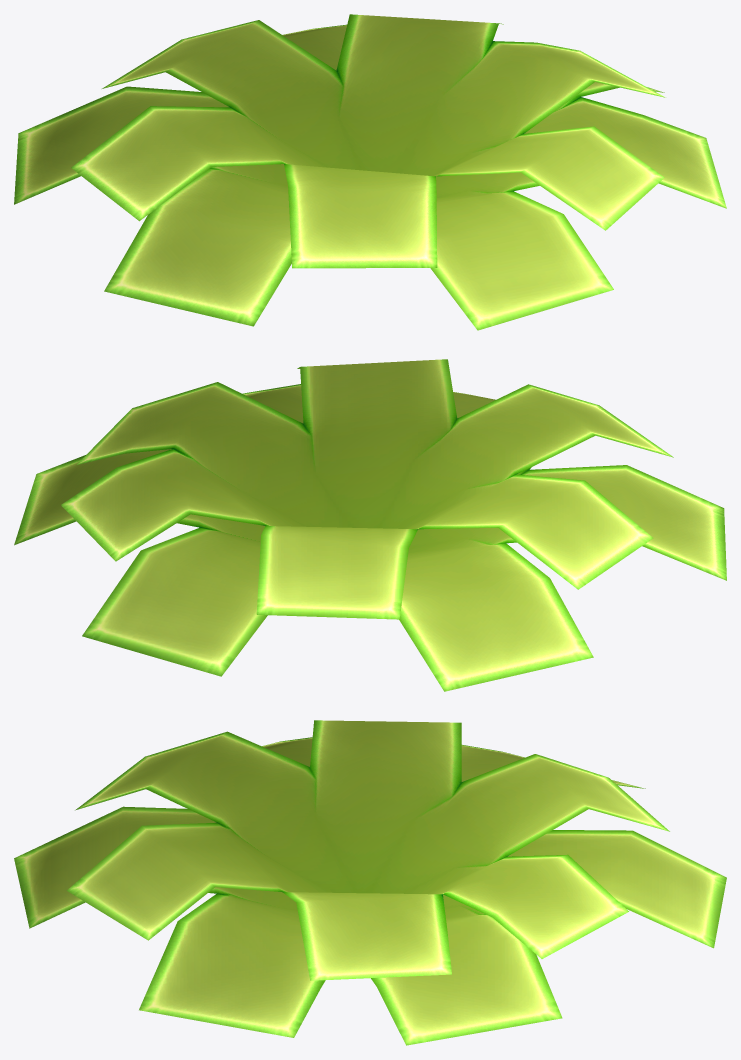
The model's file is SM_Plant_01_A.glb.
3 renders of one model, top to bottom at view 1: azimuth 30°, elevation 25°; view 2: azimuth 150°, elevation 25°; view 3: azimuth 270°, elevation 25°, orthographic.
Visible parts, largest first — view 1: SM_Plant_01_A; view 2: SM_Plant_01_A; view 3: SM_Plant_01_A.
Boxes of the visible parts, <box> form: SM_Plant_01_A: <box>14,14,726,330</box>; SM_Plant_01_A: <box>14,359,726,691</box>; SM_Plant_01_A: <box>14,720,726,1045</box>.
Bounding box in the file's own units: 0.8229 × 0.1391 × 0.815.
1 material, 1 textured.
